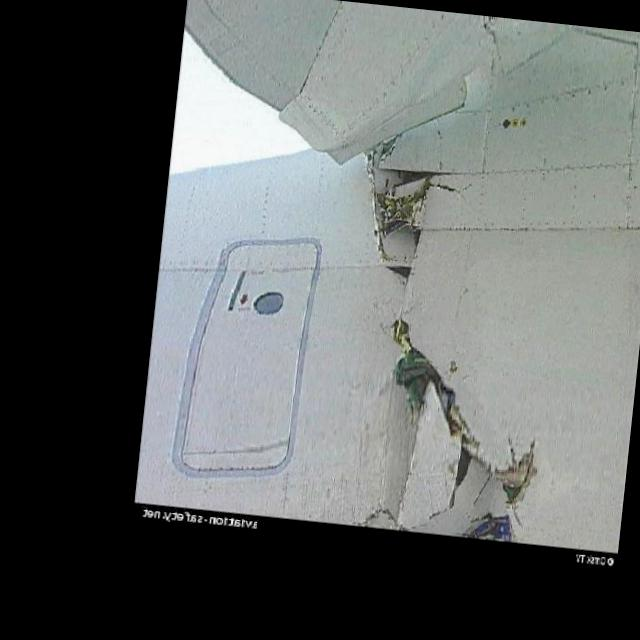crack: (363, 309, 560, 532), (392, 316, 478, 489), (373, 174, 427, 251), (494, 443, 536, 505), (470, 515, 509, 541), (372, 134, 400, 164)
dent: (332, 1, 602, 164)
